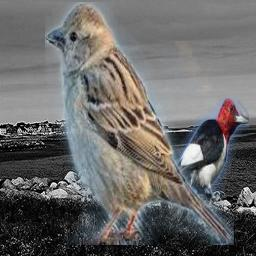Sparrow: (45, 2, 234, 245)
Woodpecker: (169, 98, 249, 221)
